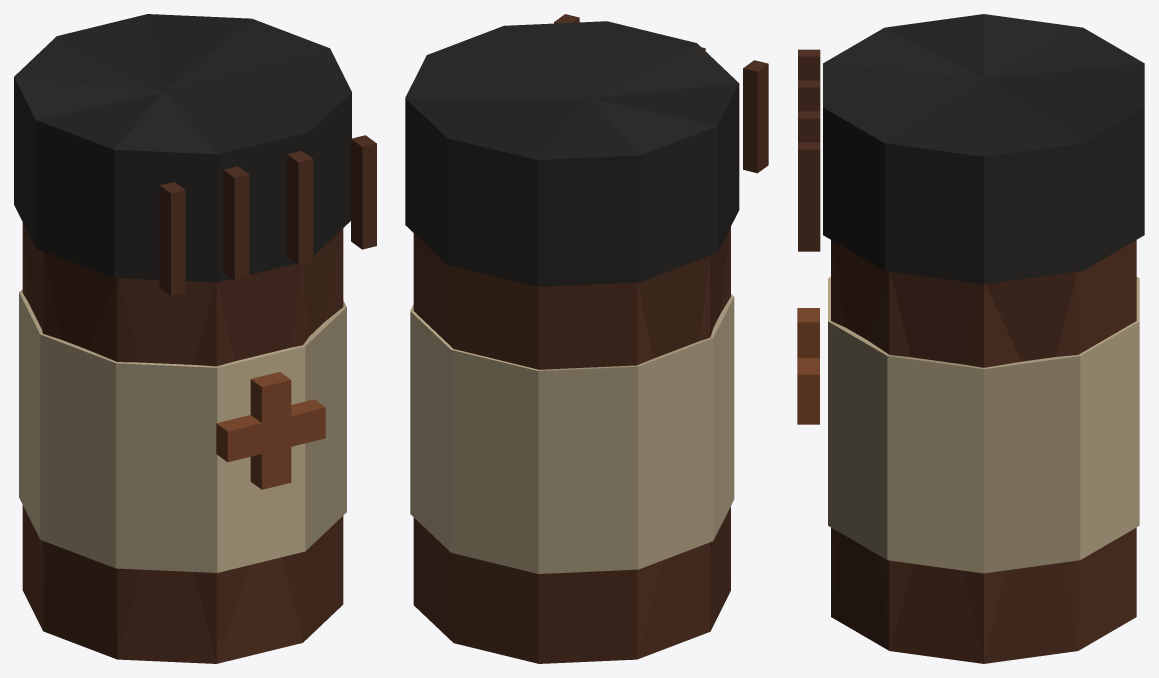
File: water_tablets_yodnye_idle.glb
3 renders of one model, left to right at view 1: azimuth 30°, elevation 25°; view 2: azimuth 150°, elevation 25°; view 3: azimuth 270°, elevation 25°, orthographic.
Visible parts, largest first — view 1: water_tablets_yodnye_idle; view 2: water_tablets_yodnye_idle; view 3: water_tablets_yodnye_idle.
Part boxes in pixels (x1,y1,x2,y2): water_tablets_yodnye_idle: (14,14,376,663); water_tablets_yodnye_idle: (405,14,768,663); water_tablets_yodnye_idle: (797,14,1144,663).
Bounding box in the file's own units: 0.06 × 0.1 × 0.0616.
Materials: 1 (1 with a texture image).
